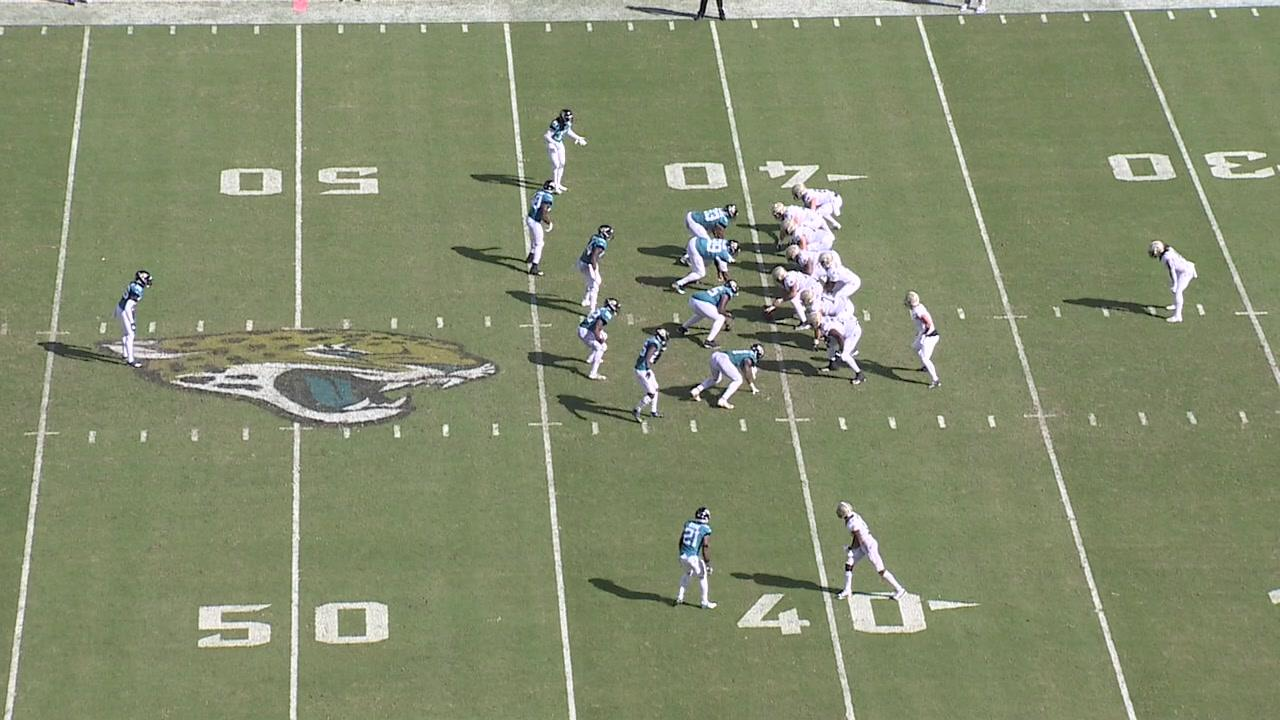player: (833, 497, 906, 603), (687, 343, 768, 411), (674, 502, 719, 613), (806, 309, 868, 388), (676, 277, 741, 349), (109, 269, 155, 369), (1147, 237, 1198, 325), (900, 288, 943, 390), (798, 288, 862, 356), (629, 326, 672, 426), (671, 237, 744, 295), (676, 202, 741, 267), (543, 107, 588, 197), (577, 295, 623, 383), (764, 266, 823, 332), (577, 221, 616, 314), (523, 178, 559, 278), (790, 182, 845, 234), (769, 201, 825, 249), (816, 250, 863, 301), (785, 244, 833, 282), (781, 220, 835, 253)
